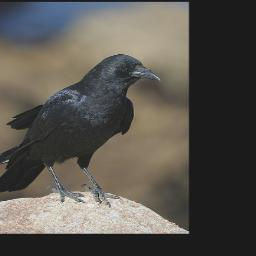Crow: (0, 53, 164, 208)
